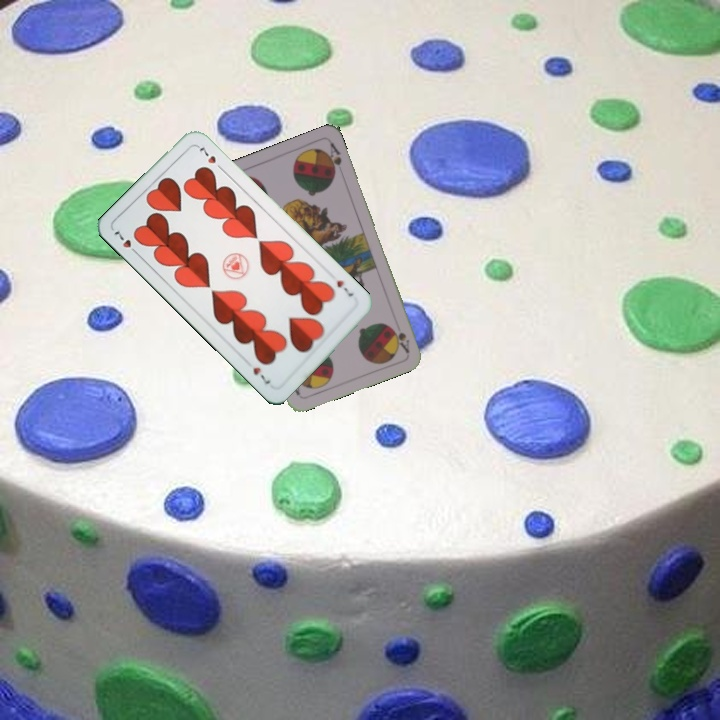H7: (110, 224, 141, 258), (333, 276, 356, 300)
SA: (394, 328, 412, 355)
